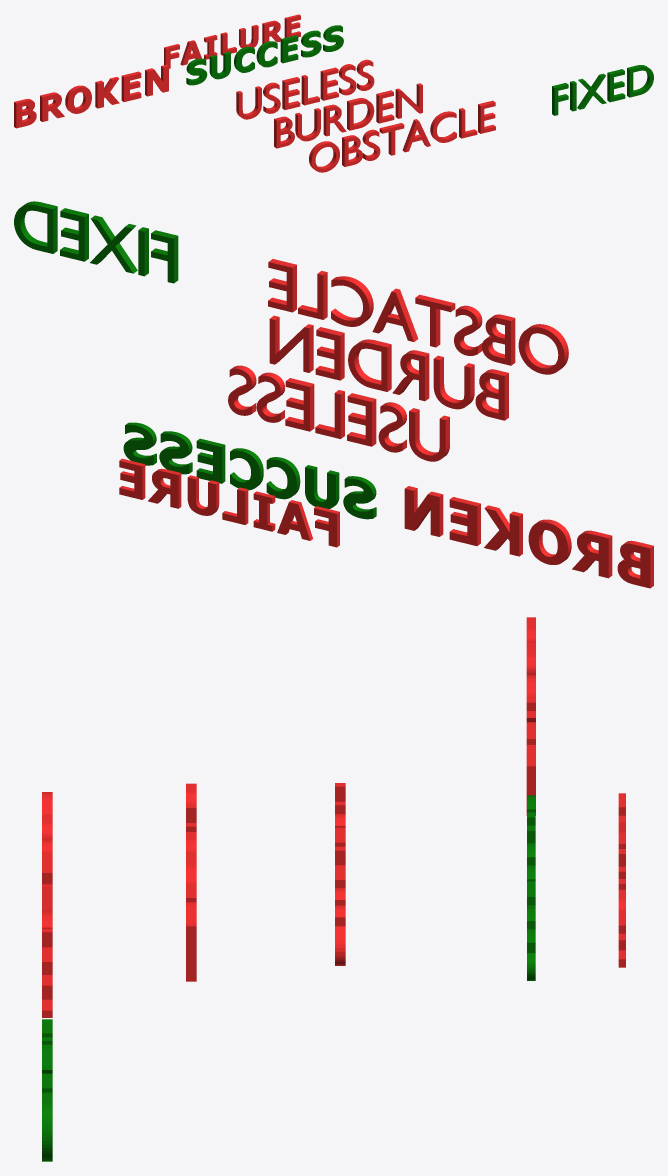
File: burden.fbx
The picture shows the model from 3 angles, top to bottom: view 1: azimuth 30°, elevation 25°; view 2: azimuth 150°, elevation 25°; view 3: azimuth 270°, elevation 25°; orthographic projection. The views are drawn at different scales.
Visible parts, largest first — view 1: Text.002, text1, Text, text3, Text.001, text2, Text.003; view 2: Text.002, text1, Text, text3, Text.001, text2, Text.003; view 3: Text.002, Text, Text.001, text1, text3, Text.003, text2.
Part boxes in pixels (box(x1,y1,x2,y2)): Text.002: box(309, 100, 495, 172); text1: box(14, 64, 168, 128); Text: box(274, 83, 422, 148); text3: box(186, 25, 343, 85); Text.001: box(236, 59, 374, 119); text2: box(164, 14, 300, 68); Text.003: box(552, 65, 653, 115); Text.002: box(268, 259, 568, 374); text1: box(404, 486, 653, 588); Text: box(269, 315, 508, 420); text3: box(123, 422, 376, 519); Text.001: box(228, 365, 449, 461); text2: box(119, 458, 339, 547); Text.003: box(14, 201, 178, 283); Text.002: box(42, 792, 52, 1017); Text: box(186, 783, 196, 981); Text.001: box(335, 783, 345, 965); text1: box(526, 617, 535, 815); text3: box(527, 795, 535, 980); Text.003: box(42, 1019, 52, 1161); text2: box(618, 793, 625, 967).
Size of the model in its own units: 1327 by 70 by 650.
